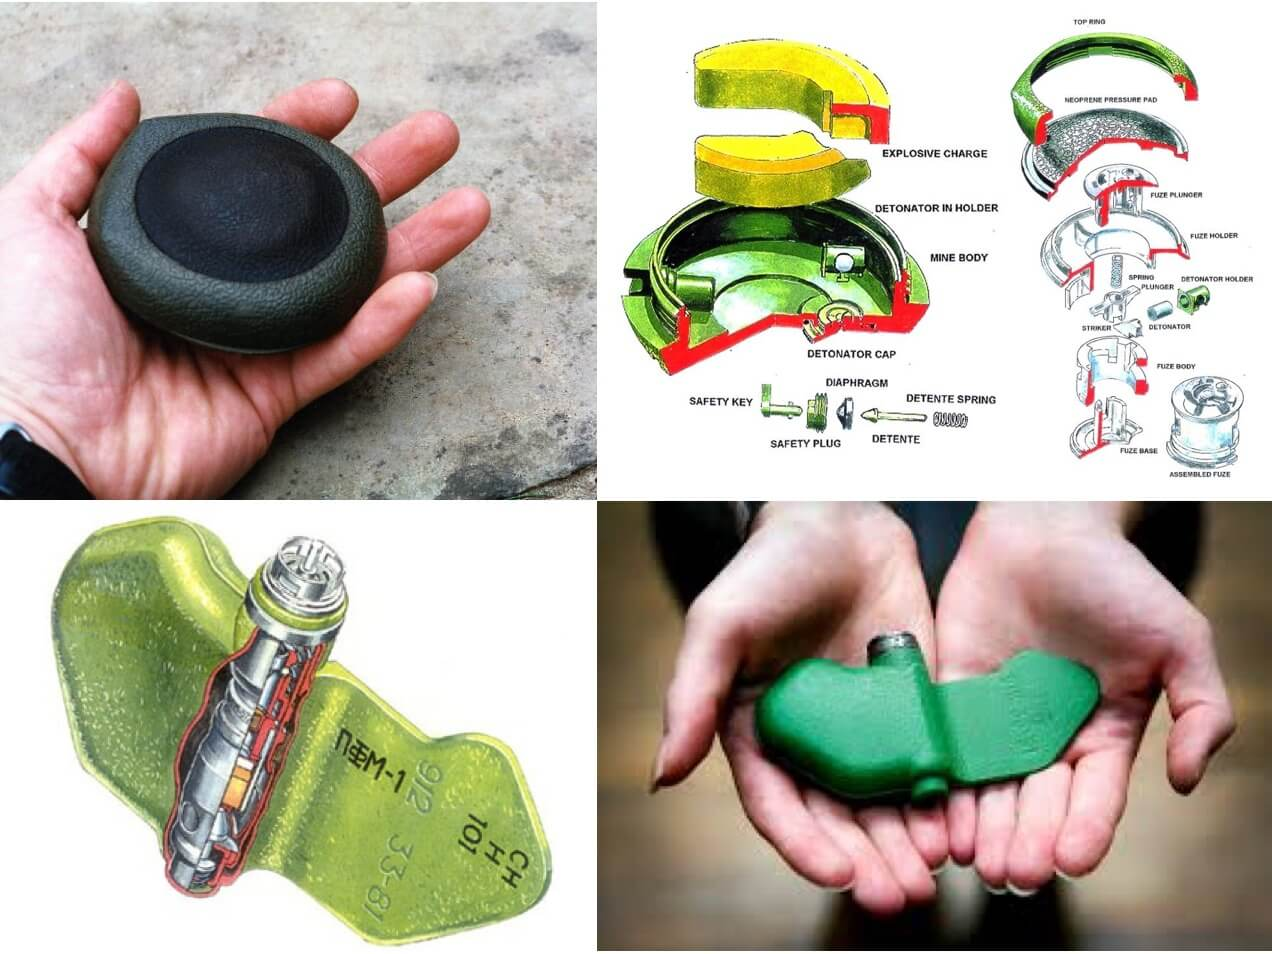butterfly: (39, 508, 565, 941), (717, 623, 1105, 801)
